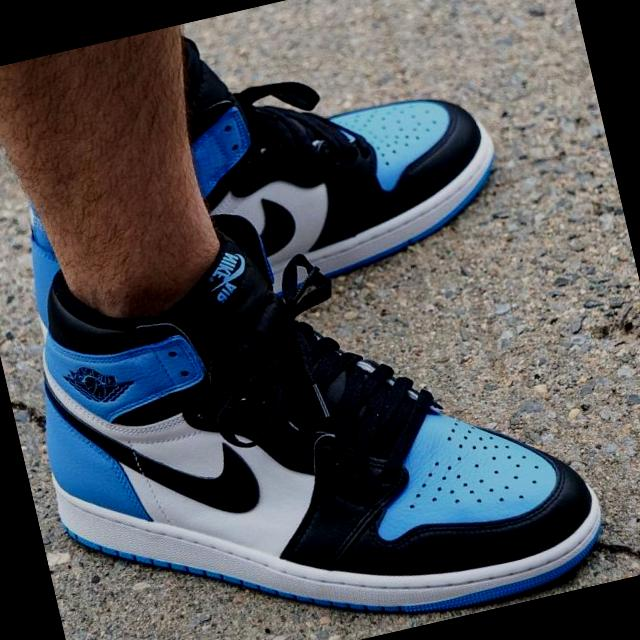nike_original_jordan: (0, 188, 622, 640), (11, 27, 521, 348)
